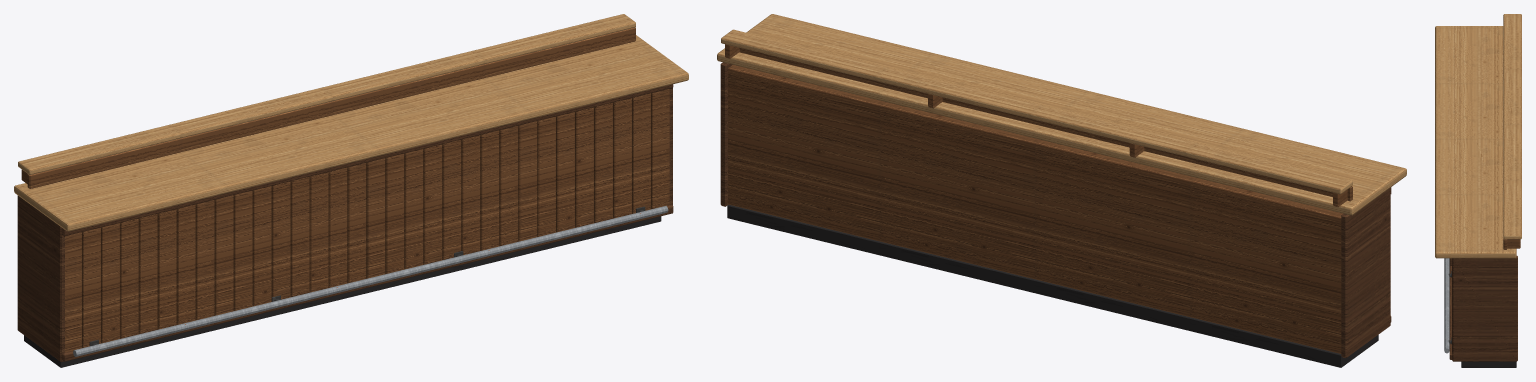
The model's file is counter_ramen.glb.
3 views of the same model, side by side, from view 1: azimuth 30°, elevation 25°; view 2: azimuth 150°, elevation 25°; view 3: azimuth 270°, elevation 25° (orthographic). The views are drawn at different scales.
Visible parts, largest first — view 1: p; view 2: p; view 3: p.
Boxes of the visible parts, x1,y1,x2,y2 form: p: (14, 14, 688, 367); p: (717, 14, 1406, 367); p: (1435, 14, 1521, 367).
Size of the model in its own units: 4.1 by 1.12 by 0.66.
6 materials, 6 textured.
